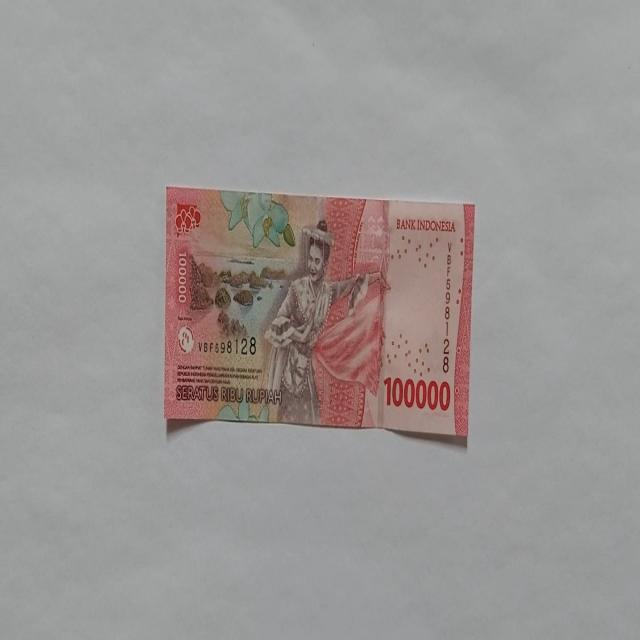seratus ribu rupiah: (163, 185, 474, 442), (260, 218, 370, 426)
